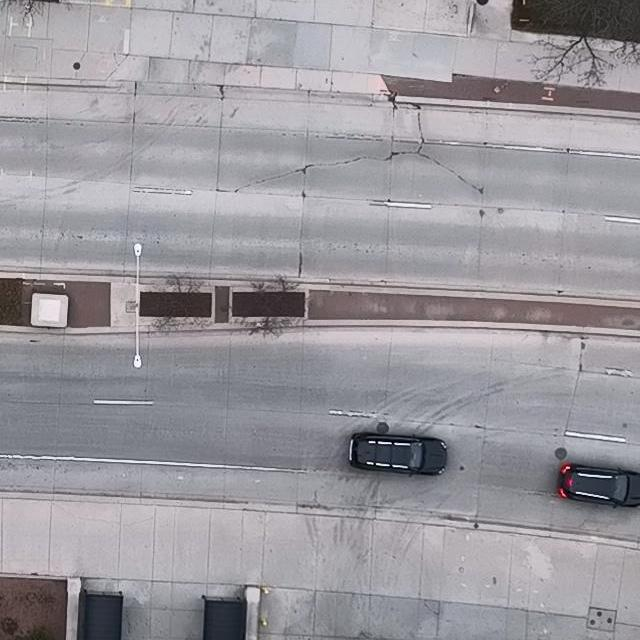car: (349, 432, 447, 478), (557, 463, 640, 509)
